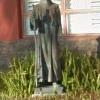Statue: (21, 2, 69, 98)
